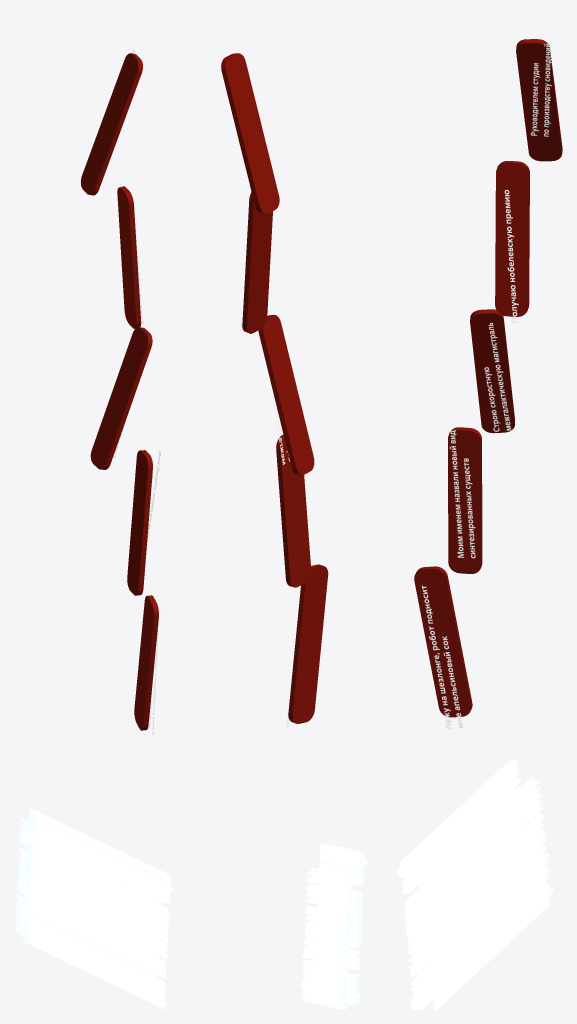
The model's file is 03_Future_Question.glb.
3 views of the same model, side by side, from view 1: azimuth 30°, elevation 25°; view 2: azimuth 150°, elevation 25°; view 3: azimuth 270°, elevation 25° (orthographic). The views are drawn at different scales.
Visible parts, largest first — view 1: 03_Question, 03_Answer_3, 03_Answer_5, 03_Answer_2, 03_Answer_4, 03_Answer_1; view 2: 03_Question, 03_Answer_5, 03_Answer_1, 03_Answer_3, 03_Answer_2, 03_Answer_4; view 3: 03_Question, 03_Answer_4, 03_Answer_1, 03_Answer_2, 03_Answer_5, 03_Answer_3, 03_Text_2.002, 03_Text_1.002, 03_Text_5.002, 03_Text_3.002, 03_Text_4.002.
Part boxes in pixels (left/top/right/bottom): 03_Question: left=14, top=807, right=172, bottom=1009; 03_Answer_3: left=90, top=327, right=152, bottom=469; 03_Answer_5: left=80, top=53, right=142, bottom=195; 03_Answer_2: left=127, top=450, right=152, bottom=595; 03_Answer_4: left=117, top=186, right=141, bottom=328; 03_Answer_1: left=134, top=595, right=158, bottom=730; 03_Question: left=300, top=844, right=367, bottom=1009; 03_Answer_5: left=221, top=53, right=279, bottom=213; 03_Answer_1: left=288, top=564, right=328, bottom=723; 03_Answer_3: left=258, top=315, right=314, bottom=475; 03_Answer_2: left=276, top=434, right=311, bottom=587; 03_Answer_4: left=242, top=192, right=272, bottom=333; 03_Question: left=396, top=760, right=553, bottom=1009; 03_Answer_4: left=495, top=161, right=529, bottom=316; 03_Answer_1: left=414, top=566, right=472, bottom=717; 03_Answer_2: left=448, top=427, right=482, bottom=573; 03_Answer_5: left=516, top=39, right=562, bottom=161; 03_Answer_3: left=470, top=309, right=514, bottom=433; 03_Text_2.002: left=449, top=430, right=475, bottom=558; 03_Text_1.002: left=422, top=585, right=463, bottom=729; 03_Text_5.002: left=530, top=44, right=551, bottom=136; 03_Text_3.002: left=484, top=322, right=511, bottom=431; 03_Text_4.002: left=504, top=190, right=518, bottom=322.
Bounding box in the file's own units: 3.19 × 21.88 × 3.24.
7 materials, 1 textured.
